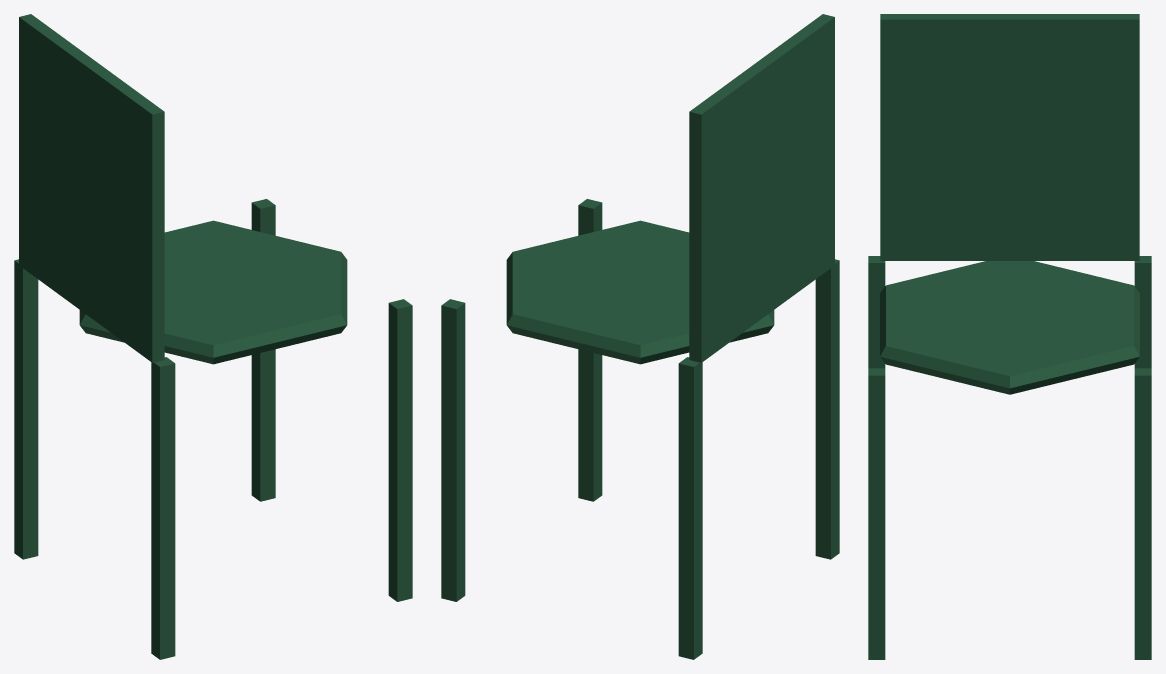
Rendered from SM_Prop_cafe_chair_2_LOD2.glb.
3 renders of one model, left to right at view 1: azimuth 30°, elevation 25°; view 2: azimuth 150°, elevation 25°; view 3: azimuth 270°, elevation 25°, orthographic. The views are drawn at different scales.
Parts seen in each view (by area): view 1: SM_Prop_cafe_chair_2_LOD2; view 2: SM_Prop_cafe_chair_2_LOD2; view 3: SM_Prop_cafe_chair_2_LOD2.
Part boxes in pixels (bbox=[...]): SM_Prop_cafe_chair_2_LOD2: bbox=[14, 14, 412, 659]; SM_Prop_cafe_chair_2_LOD2: bbox=[441, 14, 839, 659]; SM_Prop_cafe_chair_2_LOD2: bbox=[868, 14, 1151, 659].
Bounding box in the file's own units: 0.44 × 0.85 × 0.415.
